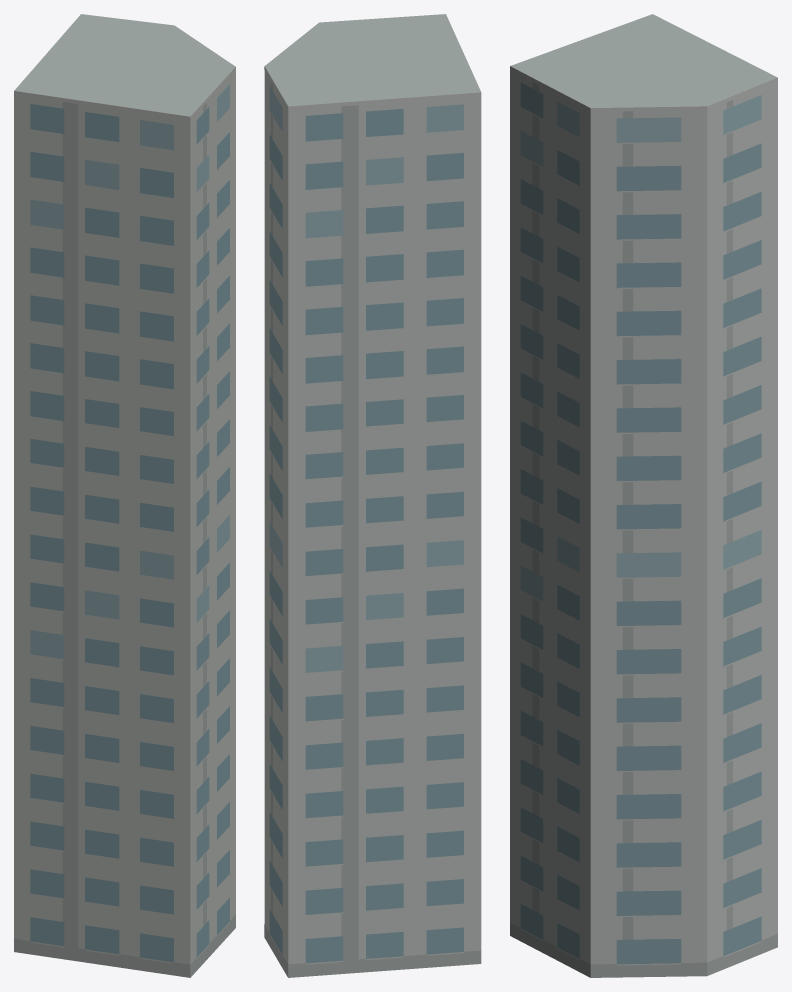
Rendered from survey-upis-32992064.glb.
The picture shows the model from 3 angles, left to right: view 1: azimuth 30°, elevation 25°; view 2: azimuth 150°, elevation 25°; view 3: azimuth 270°, elevation 25°; orthographic projection.
Parts seen in each view (by area): view 1: survey-upis-32992064.tmp; view 2: survey-upis-32992064.tmp; view 3: survey-upis-32992064.tmp.
Boxes of the visible parts, x1,y1,x2,y2 form: survey-upis-32992064.tmp: (14, 14, 235, 977); survey-upis-32992064.tmp: (264, 14, 481, 977); survey-upis-32992064.tmp: (510, 14, 777, 977).
Bounding box in the file's own units: 12.76 × 54.9 × 15.33.
